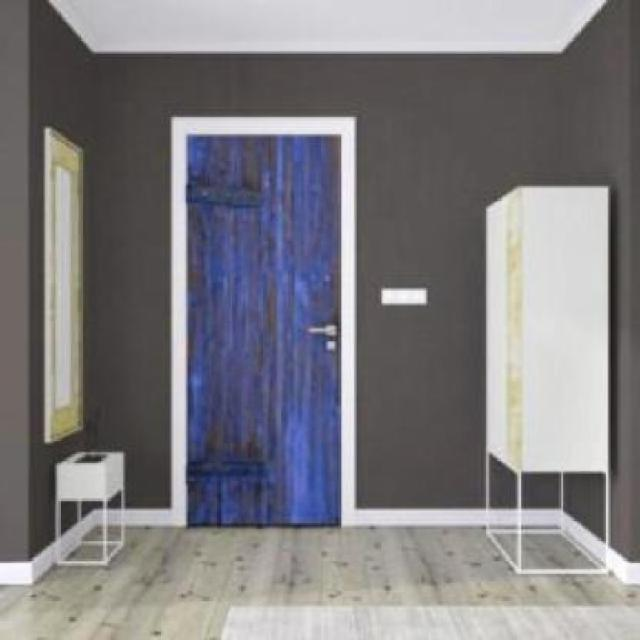door_handle: (301, 321, 347, 342)
